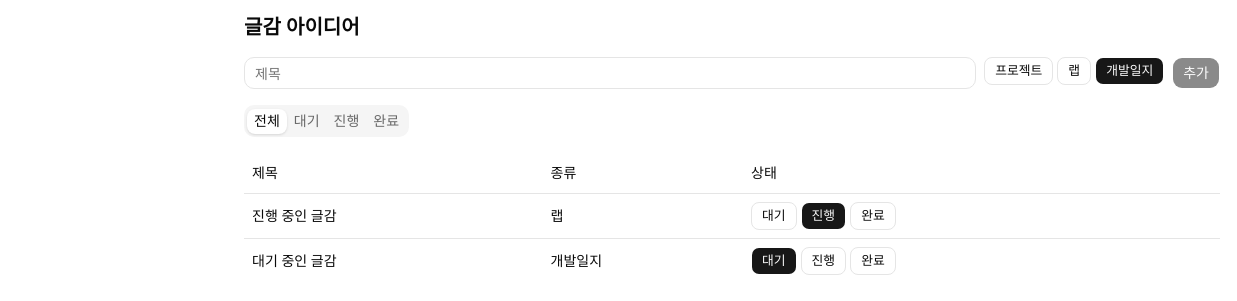
Test case: IdeasPage › 정상 › 진행 탭을 누르면 주소가 ?status=doing이 되고 그 status로 다시 조회한 목록만 보여야 한다
This screenshot has width=1237, height=301.
Expected: the text "대기 중인 글감" is shown, x1=244 y1=238 x2=543 y2=282
Click the tab "진행" at (346, 121), box x1=326 y1=108 x2=366 y2=134
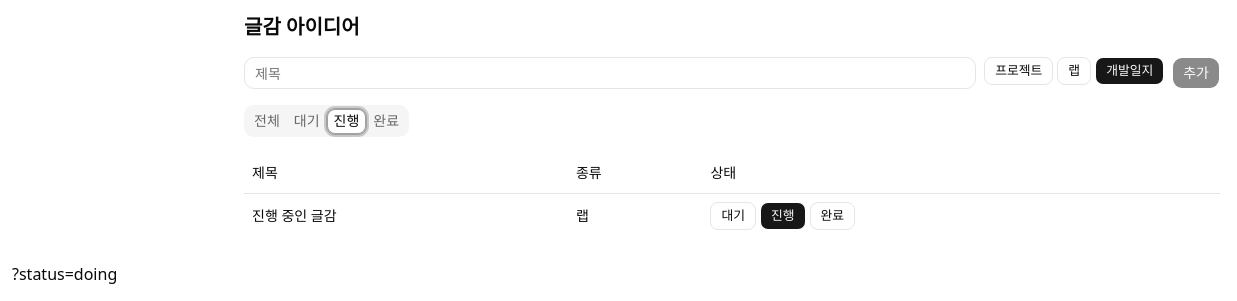
Expected: the text "진행 중인 글감" is shown, x1=244 y1=193 x2=568 y2=238
Now the text "대기 중인 글감" is gone
